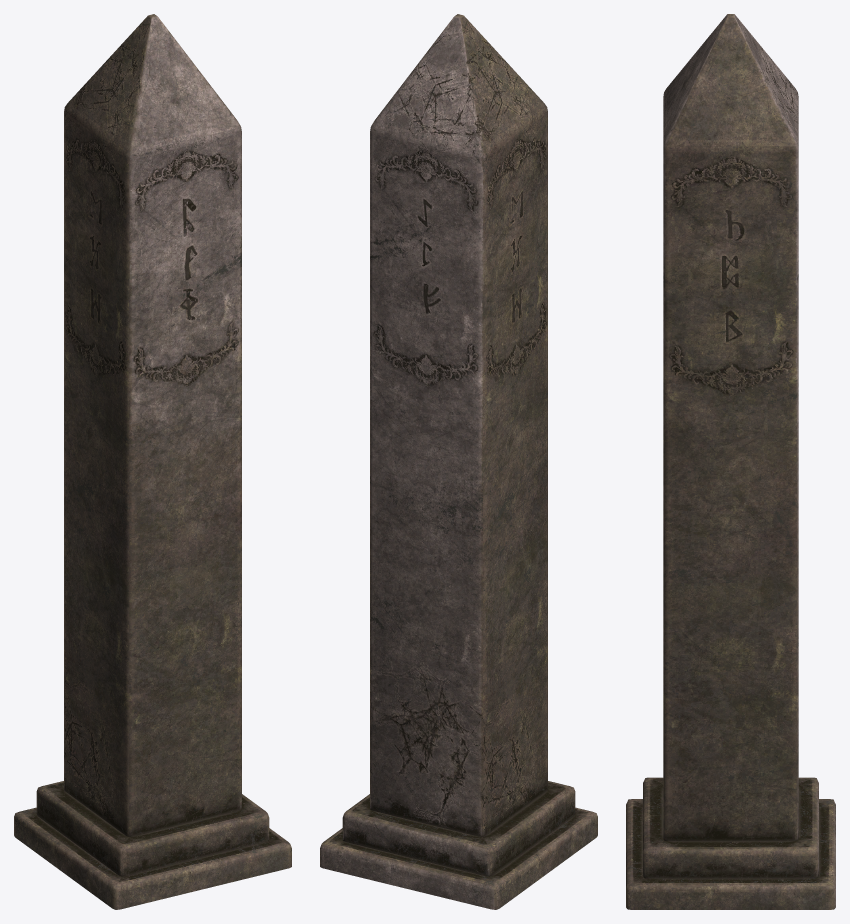
Rendered from SM_gravestone_46.fbx.
3 renders of one model, left to right at view 1: azimuth 30°, elevation 25°; view 2: azimuth 150°, elevation 25°; view 3: azimuth 270°, elevation 25°, orthographic.
Parts seen in each view (by area): view 1: SM_gravestone_046; view 2: SM_gravestone_046; view 3: SM_gravestone_046.
Part boxes in pixels (<box>): SM_gravestone_046: <box>14,14,291,909</box>; SM_gravestone_046: <box>320,14,597,909</box>; SM_gravestone_046: <box>626,14,835,909</box>.
Size of the model in its own units: 56.75 by 254 by 56.75.
